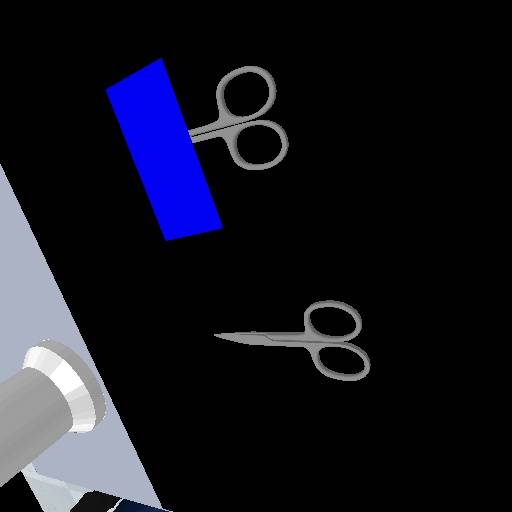tijera: (208, 296, 375, 386), (186, 61, 294, 173)
